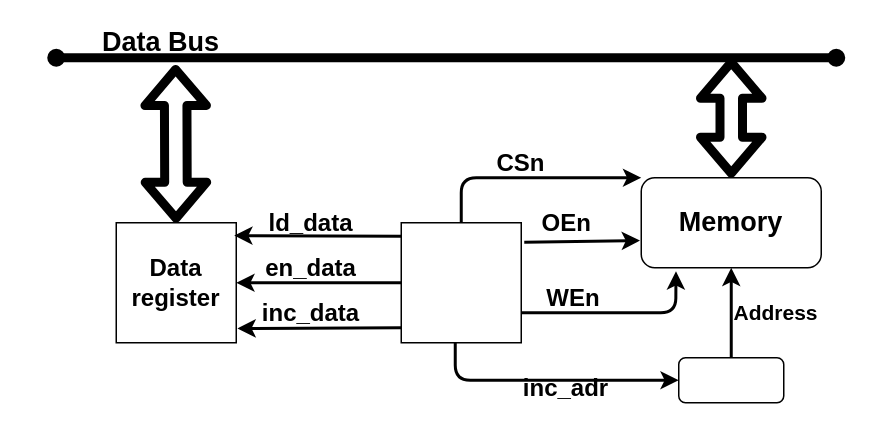
This 879x429 diagram has some shape labels left out. Here are the shapes that lost their labels. From the top down, the centre of each, then its label:
the point at 460,282: Control
the point at 730,379: MAR
